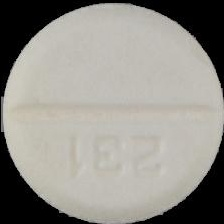51079-684: (0, 0, 224, 224)
